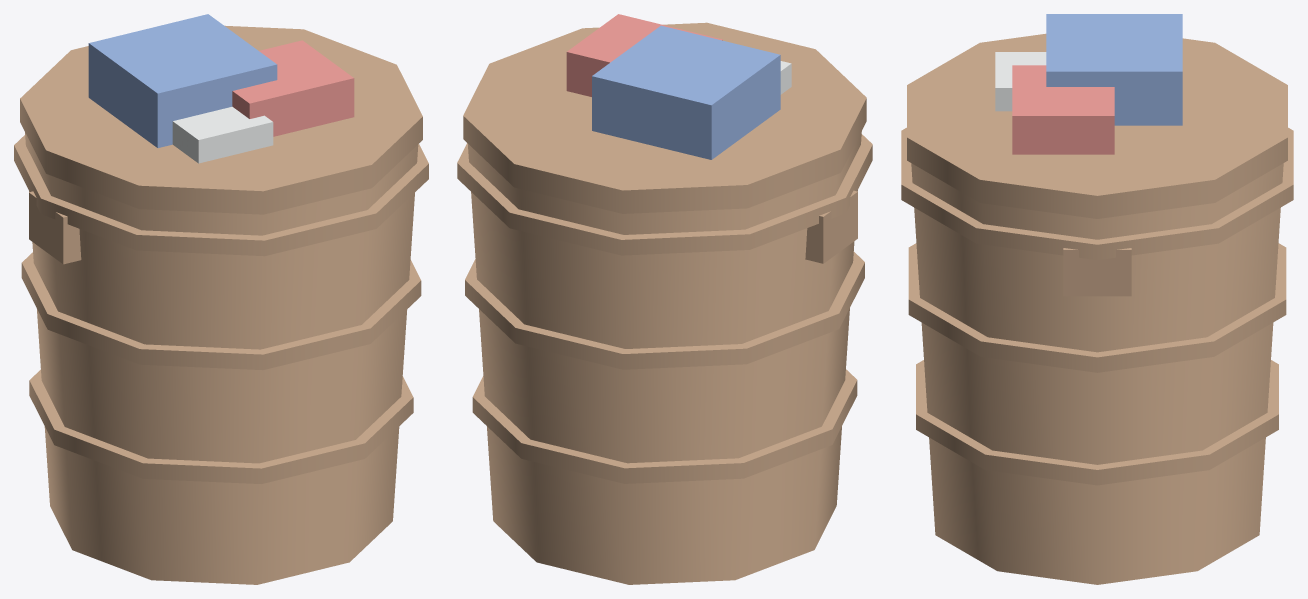
Rendered from laundryBasket.glb.
3 views of the same model, side by side, from view 1: azimuth 30°, elevation 25°; view 2: azimuth 150°, elevation 25°; view 3: azimuth 270°, elevation 25° (orthographic).
Visible parts, largest first — view 1: laundryBasket; view 2: laundryBasket; view 3: laundryBasket.
Part boxes in pixels (x1=…): laundryBasket: x1=14, y1=14, x2=428, y2=584; laundryBasket: x1=457, y1=14, x2=872, y2=584; laundryBasket: x1=901, y1=14, x2=1293, y2=584.
Bounding box in the file's own units: 0.242 × 0.3 × 0.2302.
